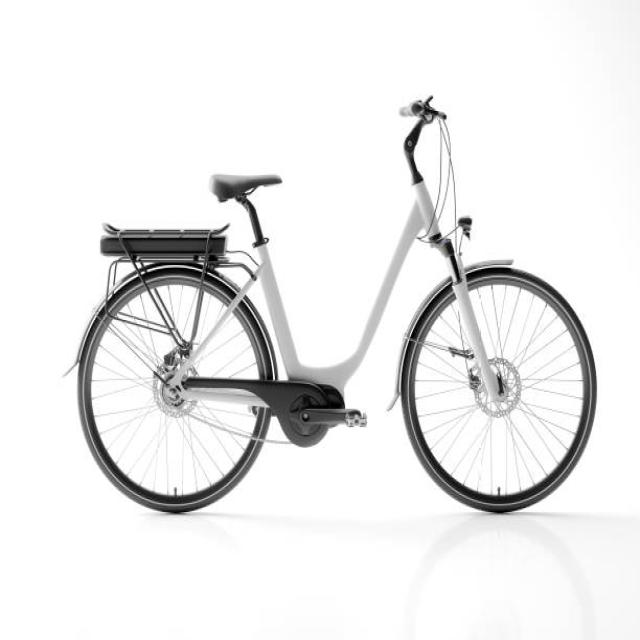bicycle: (78, 100, 594, 511)
